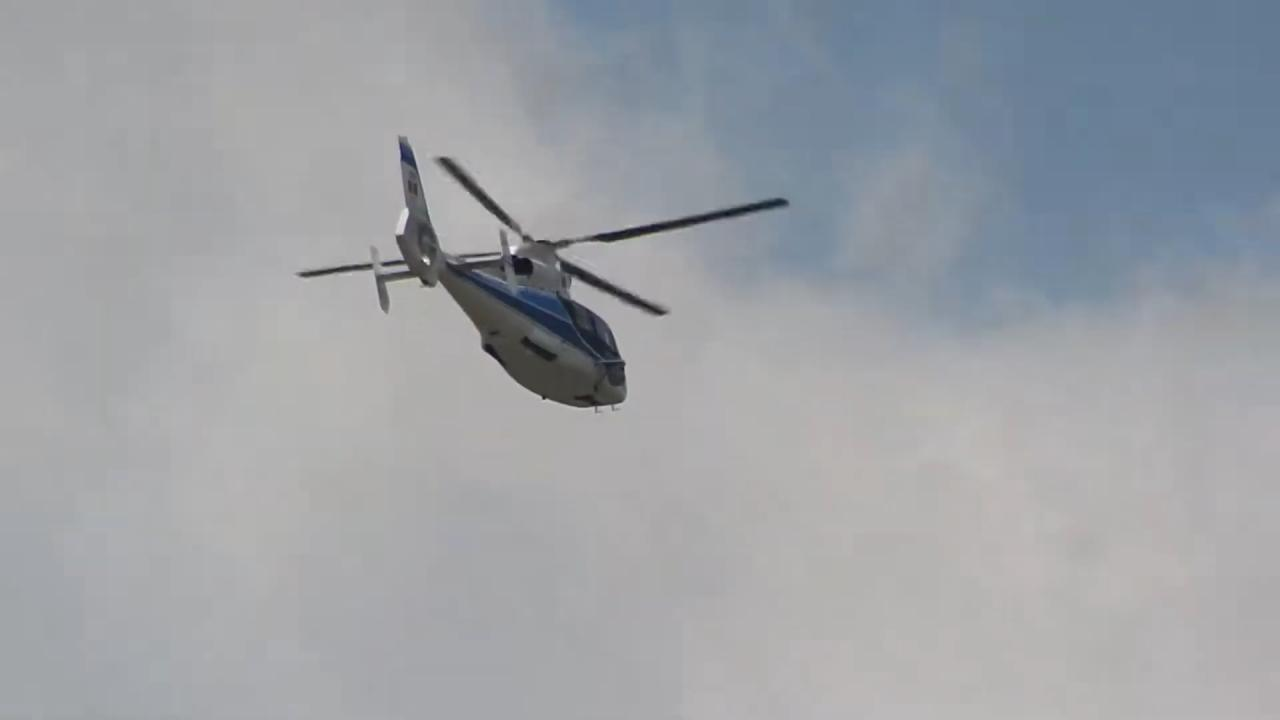Helicopter: (290, 125, 798, 423)
